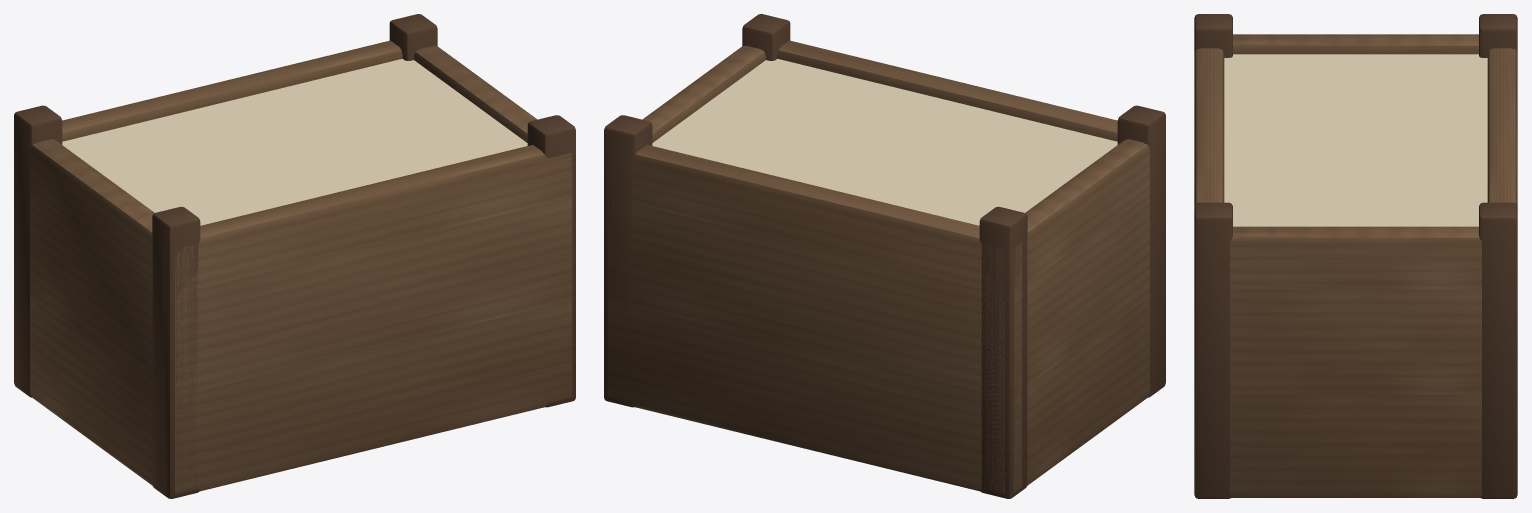
The model's file is divot_box.glb.
3 views of the same model, side by side, from view 1: azimuth 30°, elevation 25°; view 2: azimuth 150°, elevation 25°; view 3: azimuth 270°, elevation 25° (orthographic). The views are drawn at different scales.
Parts seen in each view (by area): view 1: divot_box_body; view 2: divot_box_body; view 3: divot_box_body.
Boxes of the visible parts, left/top/right/bottom form: divot_box_body: left=14, top=14, right=575, bottom=498; divot_box_body: left=604, top=14, right=1165, bottom=498; divot_box_body: left=1194, top=14, right=1517, bottom=498.
Size of the model in its own units: 0.45 by 0.29 by 0.3.
3 materials, 1 textured.
